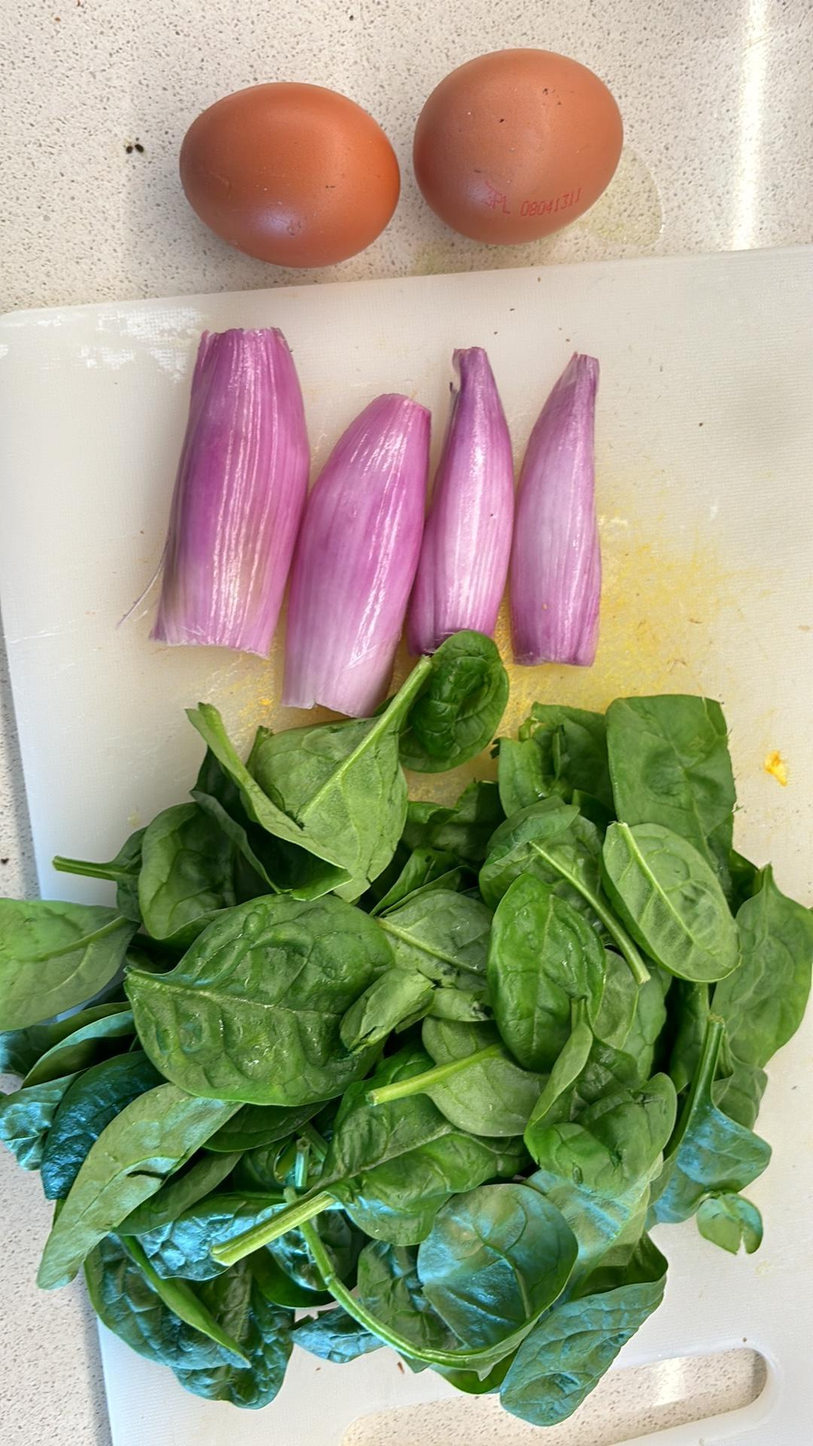lettuce: (0, 1007, 246, 1282), (135, 877, 432, 1103), (418, 1177, 657, 1418), (245, 641, 446, 872), (216, 1119, 515, 1273), (91, 1207, 319, 1396), (694, 845, 791, 1263), (526, 1036, 687, 1258), (431, 700, 595, 892), (606, 684, 749, 877), (598, 824, 747, 987), (488, 874, 599, 1061), (367, 1020, 575, 1110), (2, 896, 163, 1008)
onion: (149, 319, 303, 657), (279, 390, 439, 714), (505, 349, 617, 664), (410, 336, 501, 648)
